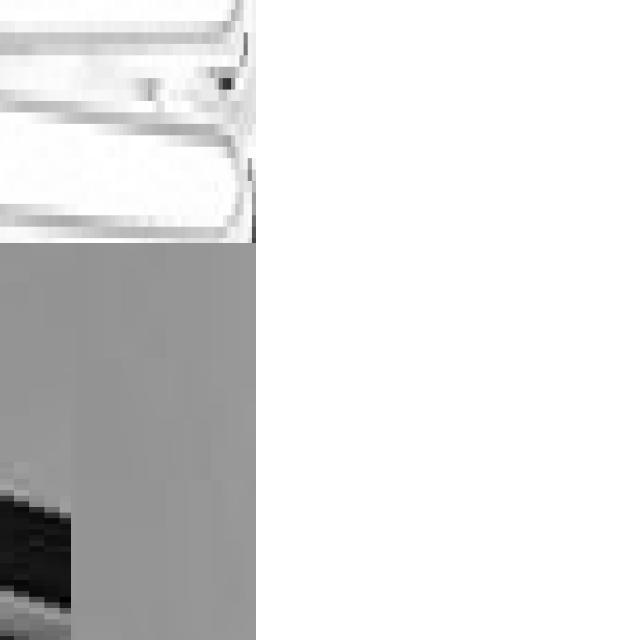forks: (12, 243, 256, 640), (0, 0, 256, 243)
